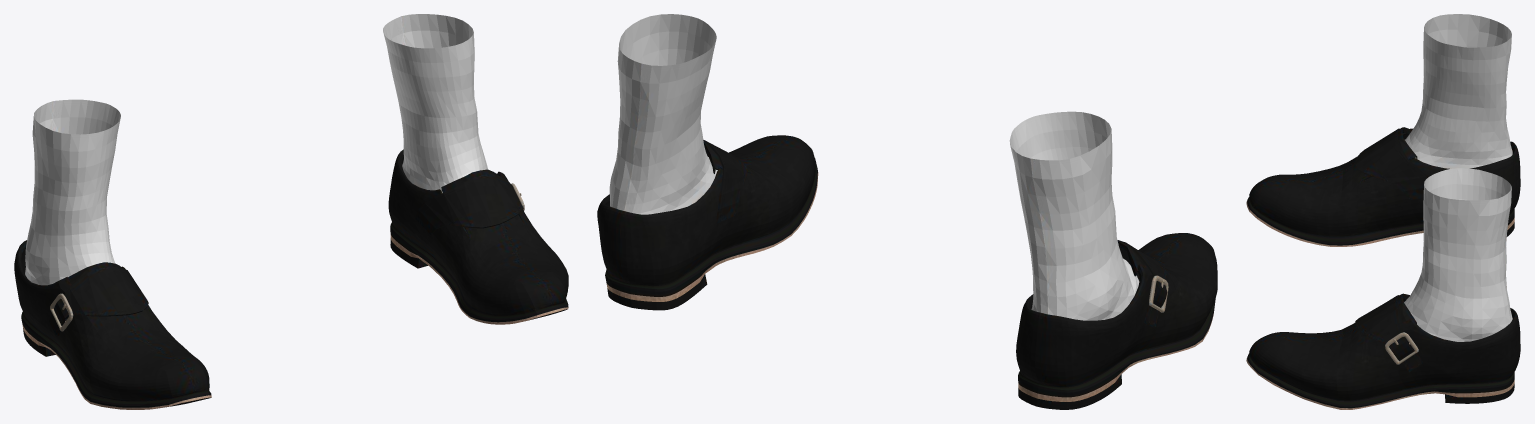
File: mhw_mindfront_shoes_monk_strap_male.glb
3 views of the same model, side by side, from view 1: azimuth 30°, elevation 25°; view 2: azimuth 150°, elevation 25°; view 3: azimuth 270°, elevation 25° (orthographic). The views are drawn at different scales.
Parts seen in each view (by area): view 1: mhw_mindfront_shoes_monk_strap_male; view 2: mhw_mindfront_shoes_monk_strap_male; view 3: mhw_mindfront_shoes_monk_strap_male.
Part boxes in pixels (x1,y1,x2,y2): mhw_mindfront_shoes_monk_strap_male: (14, 14, 568, 409); mhw_mindfront_shoes_monk_strap_male: (597, 14, 1217, 409); mhw_mindfront_shoes_monk_strap_male: (1246, 14, 1520, 409).
Bounding box in the file's own units: 0.5391 × 0.2489 × 0.3027.
1 material, 1 textured.
